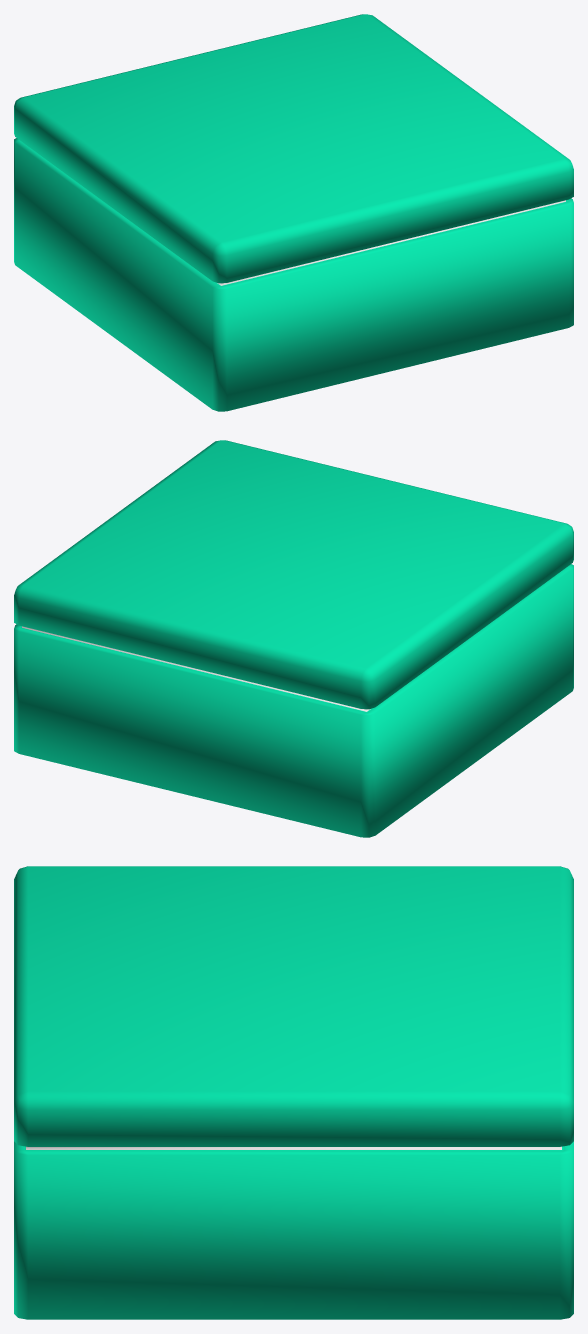
File: Food.fbx
3 views of the same model, one above another, from view 1: azimuth 30°, elevation 25°; view 2: azimuth 150°, elevation 25°; view 3: azimuth 270°, elevation 25° (orthographic). The views are drawn at different scales.
Parts seen in each view (by area): view 1: Container; view 2: Container; view 3: Container.
Part boxes in pixels (<box>): Container: <box>14,14,573,411</box>; Container: <box>14,440,573,837</box>; Container: <box>14,866,573,1319</box>.
Size of the model in its own units: 200 by 87.66 by 200.
